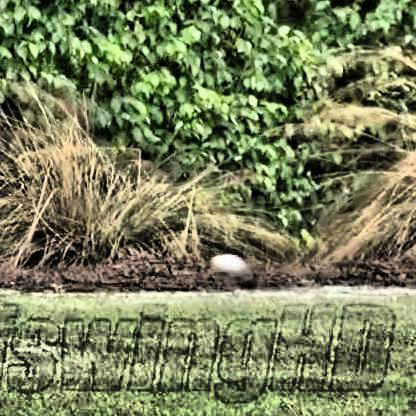golfball: (207, 251, 243, 273)
